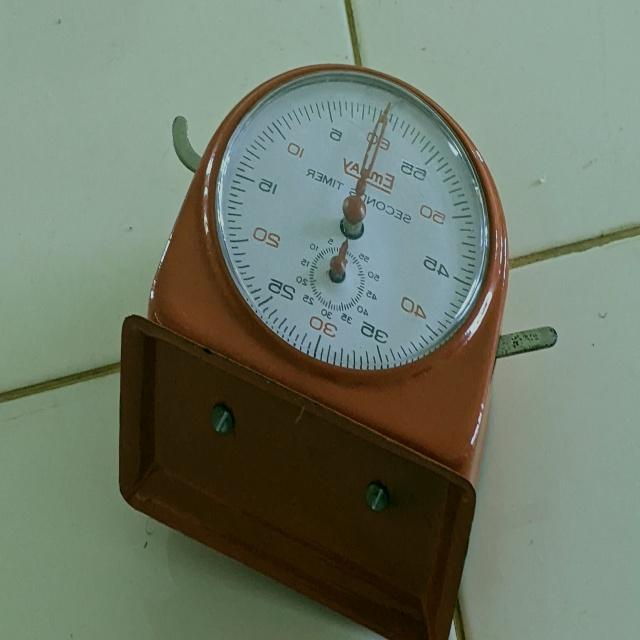Analog Stopwatch: (100, 41, 530, 632)
